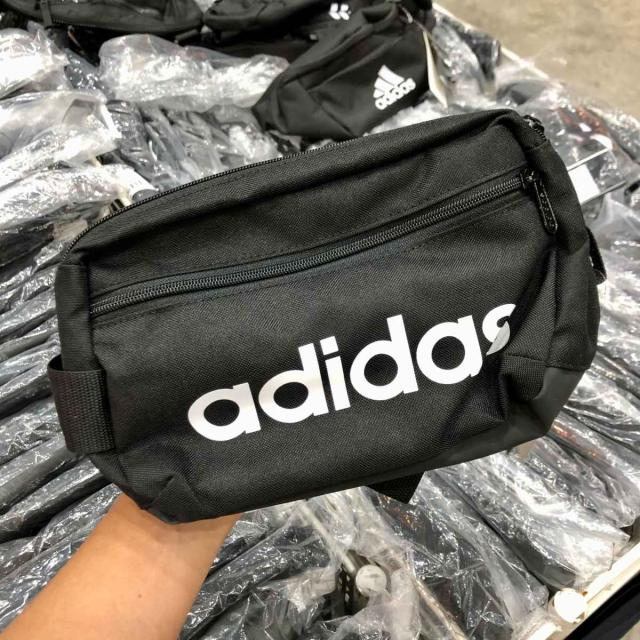Handbag: (53, 105, 600, 528)
